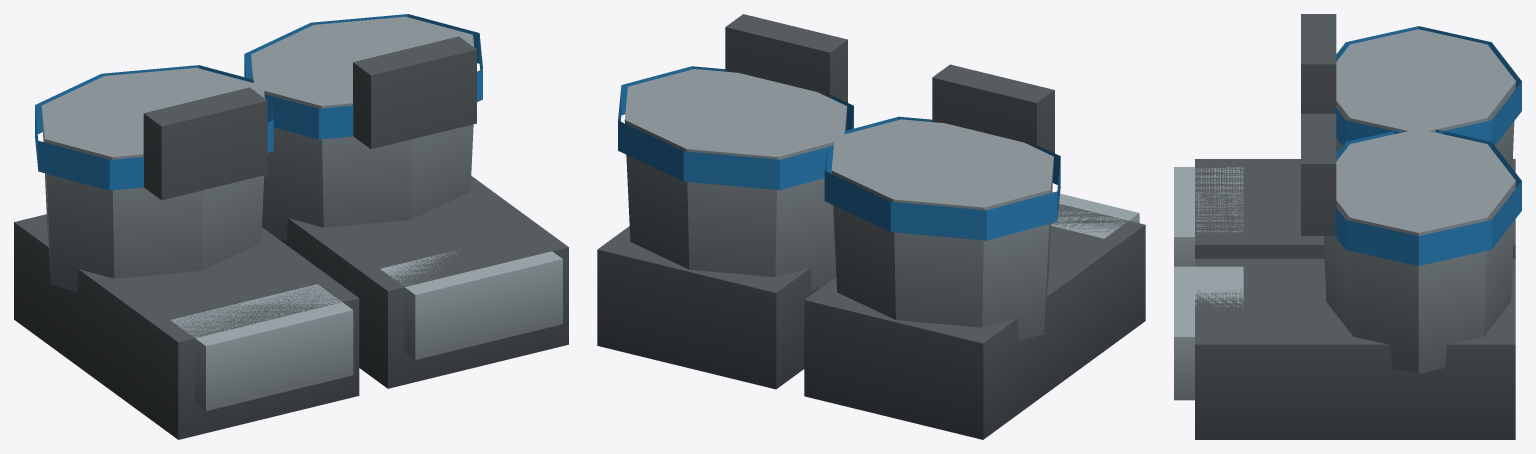
File: berserker_guard_boots_t2.glb
The picture shows the model from 3 angles, left to right: view 1: azimuth 30°, elevation 25°; view 2: azimuth 150°, elevation 25°; view 3: azimuth 270°, elevation 25°; orthographic projection. The views are drawn at different scales.
Parts seen in each view (by area): view 1: berserker_guard_boots_t2__foot_r, berserker_guard_boots_t2__lowerleg_r, berserker_guard_boots_t2__lowerleg_l, berserker_guard_boots_t2__foot_l; view 2: berserker_guard_boots_t2__lowerleg_r, berserker_guard_boots_t2__lowerleg_l, berserker_guard_boots_t2__foot_r, berserker_guard_boots_t2__foot_l; view 3: berserker_guard_boots_t2__foot_l, berserker_guard_boots_t2__lowerleg_l, berserker_guard_boots_t2__lowerleg_r, berserker_guard_boots_t2__foot_r.
Boxes of the visible parts, x1,y1,x2,y2 form: berserker_guard_boots_t2__foot_r: (14,214,359,439); berserker_guard_boots_t2__lowerleg_r: (35,65,273,291); berserker_guard_boots_t2__lowerleg_l: (244,14,482,240); berserker_guard_boots_t2__foot_l: (279,176,568,388); berserker_guard_boots_t2__lowerleg_r: (824,64,1060,340); berserker_guard_boots_t2__lowerleg_l: (618,14,853,290); berserker_guard_boots_t2__foot_r: (804,191,1145,439); berserker_guard_boots_t2__foot_l: (597,226,819,389); berserker_guard_boots_t2__foot_l: (1174,258,1515,439); berserker_guard_boots_t2__lowerleg_l: (1301,113,1521,373); berserker_guard_boots_t2__lowerleg_r: (1301,14,1521,167); berserker_guard_boots_t2__foot_r: (1174,159,1515,266).
Bounding box in the file's own units: 1.43 × 0.8207 × 1.
Materials: 1 (1 with a texture image).
